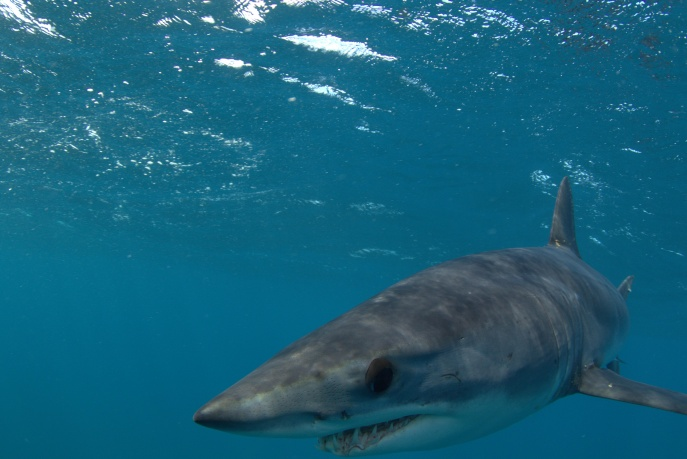Mako: (193, 172, 687, 459)
